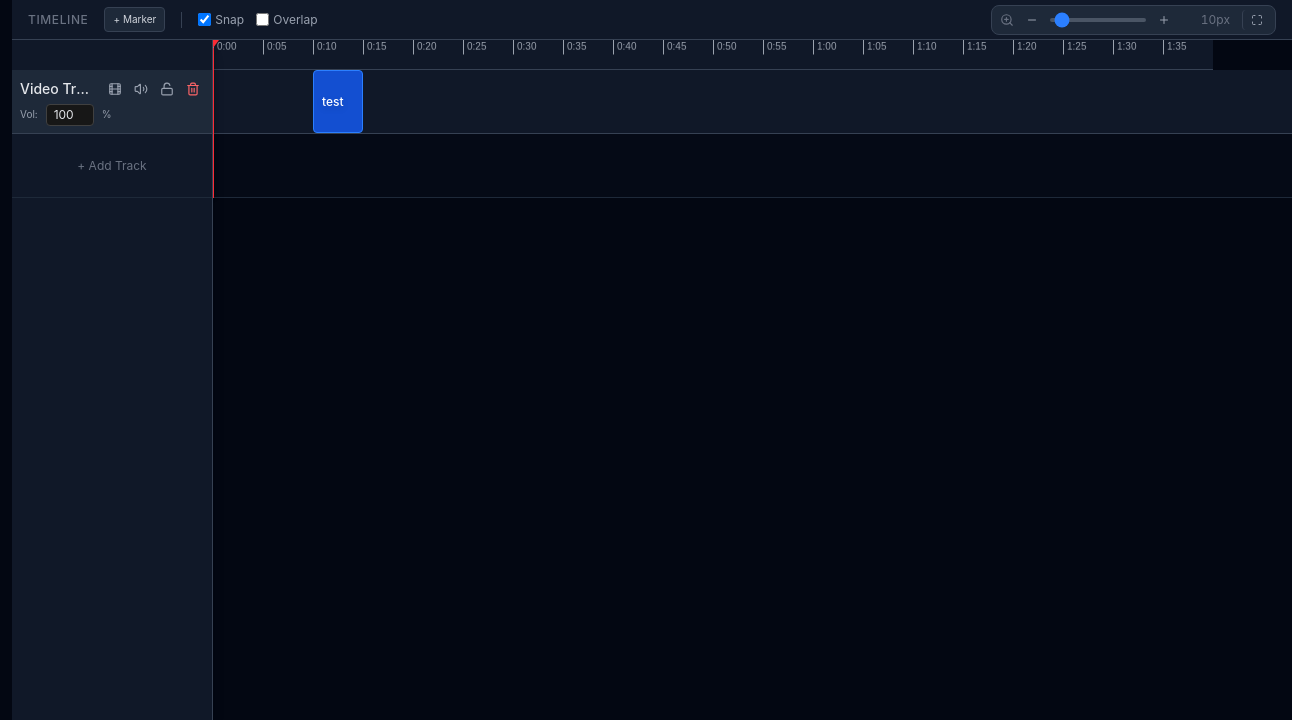
Test: Timeline Editing Integration › can select and delete a clip via context menu
This screenshot has width=1292, height=720.
# Right click
Right-click the button with test id "clip-item-clip-1" at [338, 102], box left=313, top=70, right=363, bottom=133
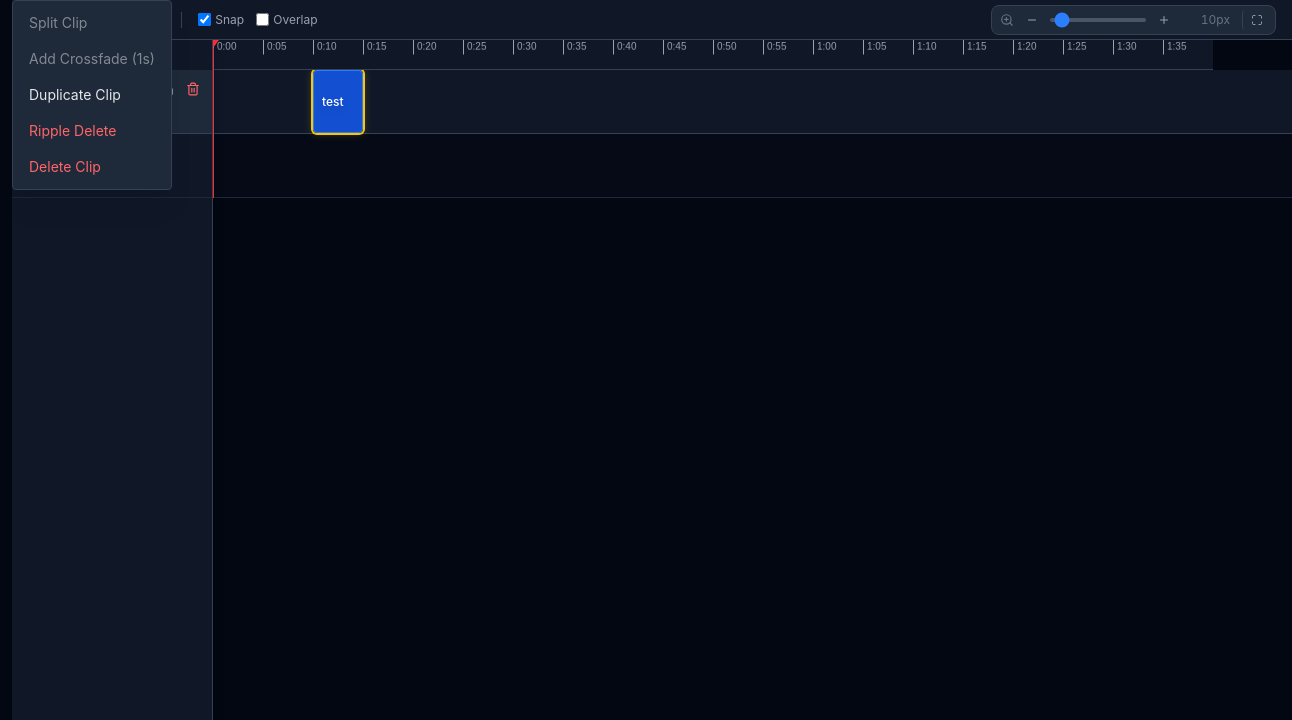
Check: the menu item "Delete Clip" is shown
# Click delete
Click the menu item "Delete Clip" at [92, 167], box left=13, top=149, right=171, bottom=185
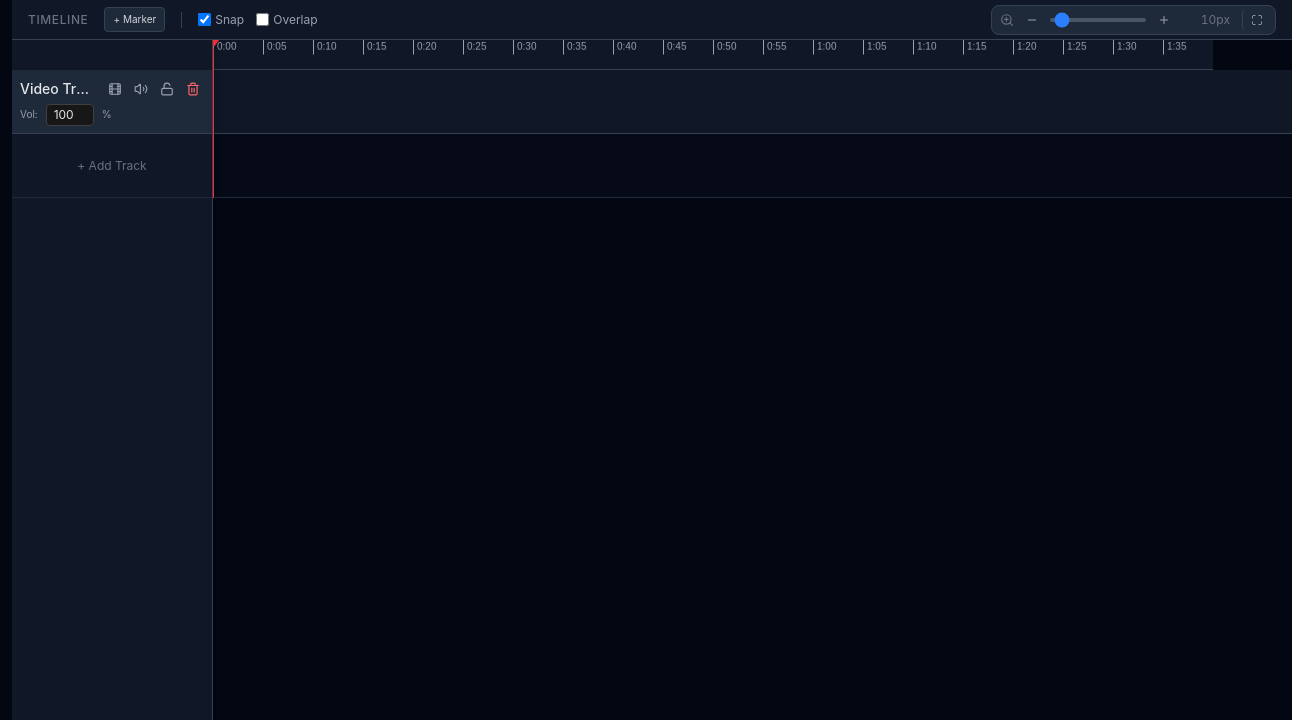
Check: the button with test id "clip-item-clip-1" is gone
